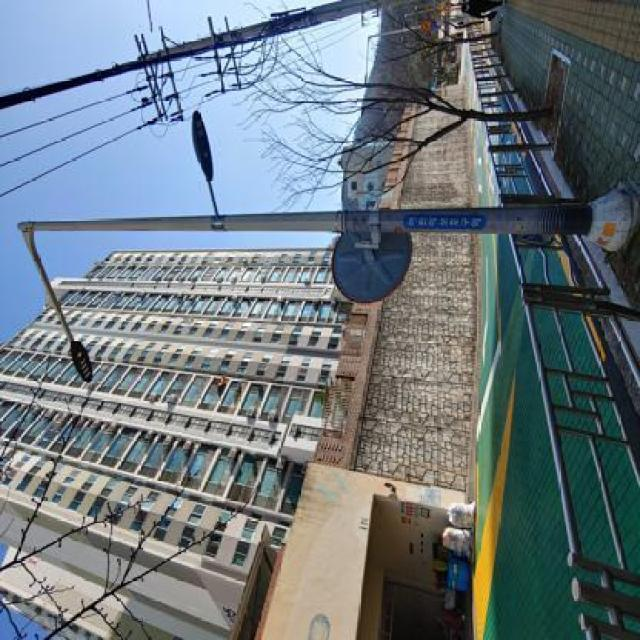pole: (11, 188, 640, 262)
